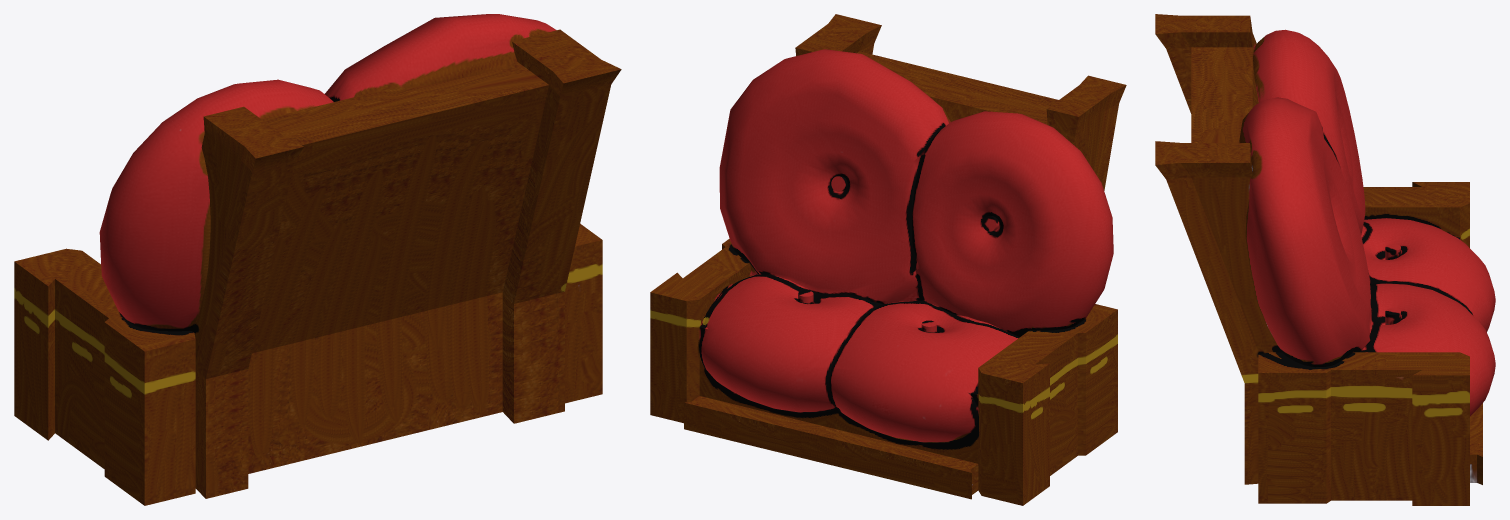
Rendered from Train_Car.fbx.
3 renders of one model, left to right at view 1: azimuth 30°, elevation 25°; view 2: azimuth 150°, elevation 25°; view 3: azimuth 270°, elevation 25°, orthographic. The views are drawn at different scales.
Visible parts, largest first — view 1: pCube46; view 2: pCube46; view 3: pCube46.
Part boxes in pixels (bbox=[...]): pCube46: bbox=[14, 14, 621, 505]; pCube46: bbox=[650, 14, 1126, 505]; pCube46: bbox=[1155, 14, 1495, 505].
Size of the model in its own units: 3.37 by 2.65 by 2.41.
Materials: 1 (1 with a texture image).
